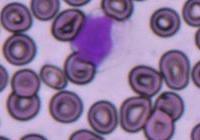L: (70, 12, 127, 66)
